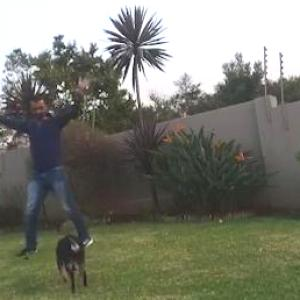takeoff: (2, 71, 88, 257)
